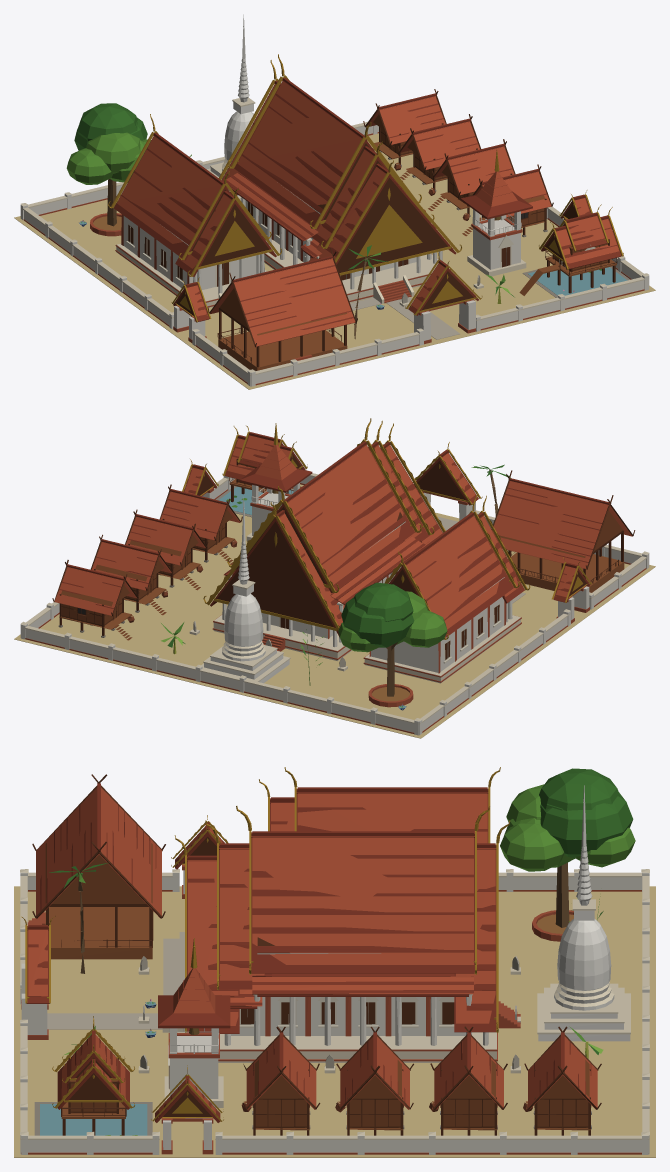
The model's file is temple_3.glb.
3 views of the same model, one above another, from view 1: azimuth 30°, elevation 25°; view 2: azimuth 150°, elevation 25°; view 3: azimuth 270°, elevation 25° (orthographic). The views are drawn at different scales.
Parts seen in each view (by area): view 1: body; view 2: body; view 3: body.
Boxes of the visible parts, box(x1,y1,x2,y2) form: body: box(14, 14, 655, 389); body: box(14, 418, 655, 738); body: box(14, 767, 655, 1157).
Bounding box in the file's own units: 47.9 × 19.57 × 47.9.
